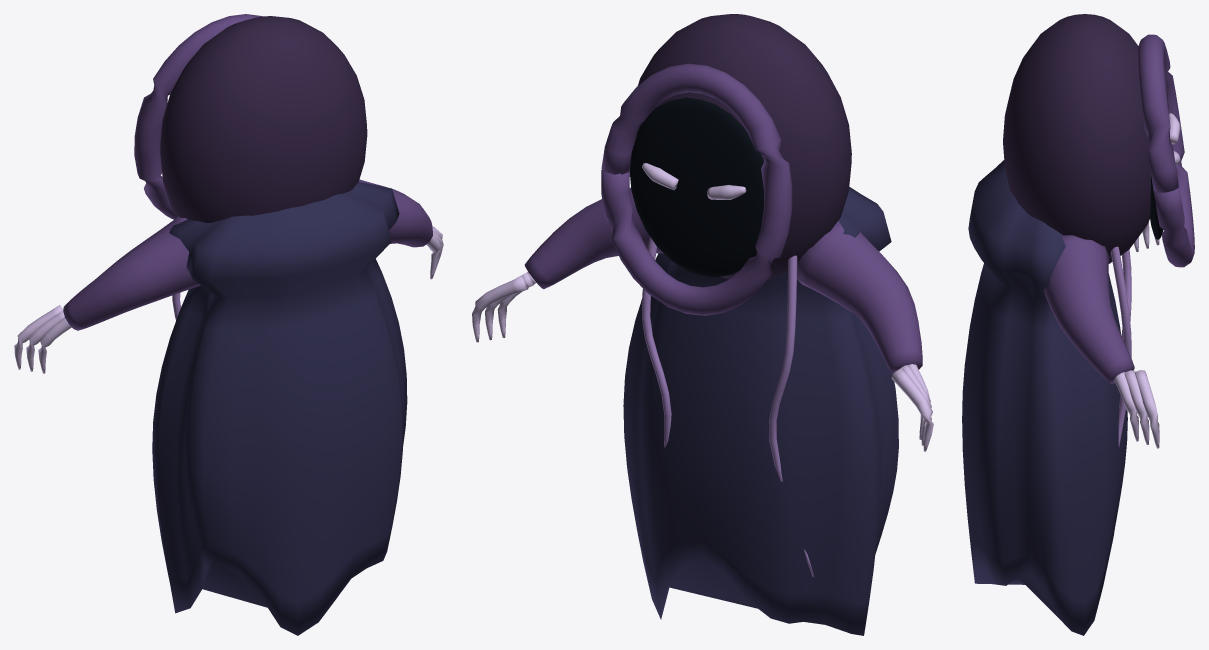
File: ShadowPhantom.glb
The picture shows the model from 3 angles, left to right: view 1: azimuth 30°, elevation 25°; view 2: azimuth 150°, elevation 25°; view 3: azimuth 270°, elevation 25°; orthographic projection. The views are drawn at different scales.
Parts seen in each view (by area): view 1: ShadowPhantom__Body, ShadowPhantom__Arms; view 2: ShadowPhantom__Body, ShadowPhantom__Arms; view 3: ShadowPhantom__Body, ShadowPhantom__Arms.
Boxes of the visible parts, x1,y1,x2,y2 form: ShadowPhantom__Body: (134,14,407,635); ShadowPhantom__Arms: (14,179,443,373); ShadowPhantom__Body: (601,14,898,635); ShadowPhantom__Arms: (472,187,933,451); ShadowPhantom__Body: (962,14,1194,635); ShadowPhantom__Arms: (1044,222,1159,448).
Size of the model in its own units: 1.35 by 1.74 by 0.6348.
Materials: 1 (1 with a texture image).
